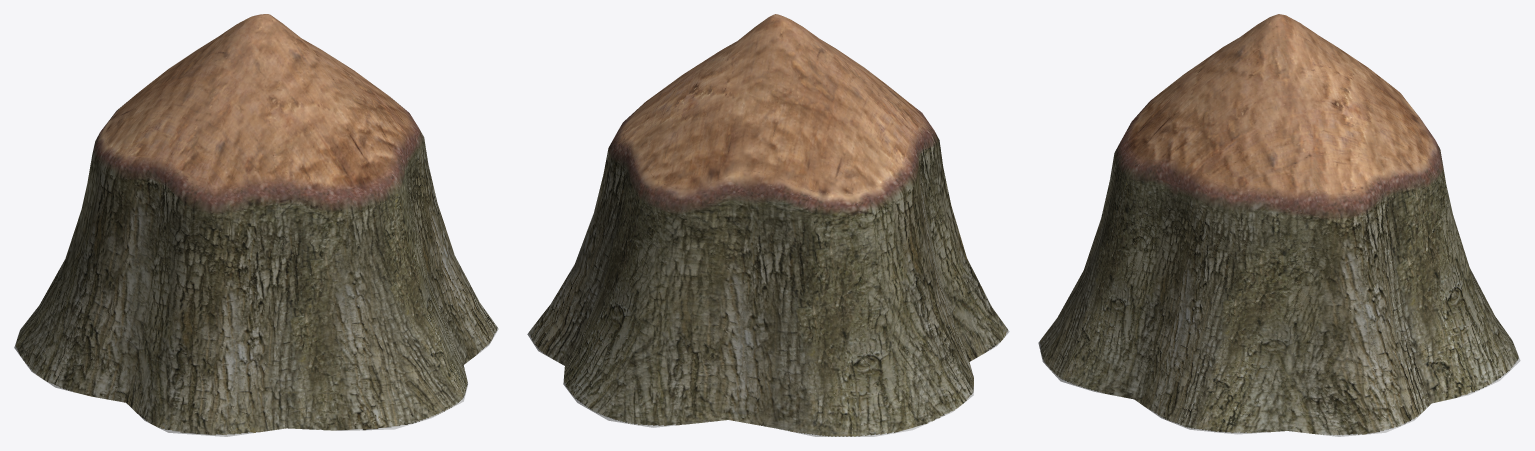
Rendered from TreeStump.dae.
3 views of the same model, side by side, from view 1: azimuth 30°, elevation 25°; view 2: azimuth 150°, elevation 25°; view 3: azimuth 270°, elevation 25° (orthographic).
Visible parts, largest first — view 1: Tree_try_low_res; view 2: Tree_try_low_res; view 3: Tree_try_low_res.
Boxes of the visible parts, left/top/right/bottom form: Tree_try_low_res: left=14, top=14, right=498, bottom=436; Tree_try_low_res: left=527, top=14, right=1009, bottom=436; Tree_try_low_res: left=1038, top=14, right=1520, bottom=436.
Size of the model in its own units: 2.06 by 2.14 by 1.57.
